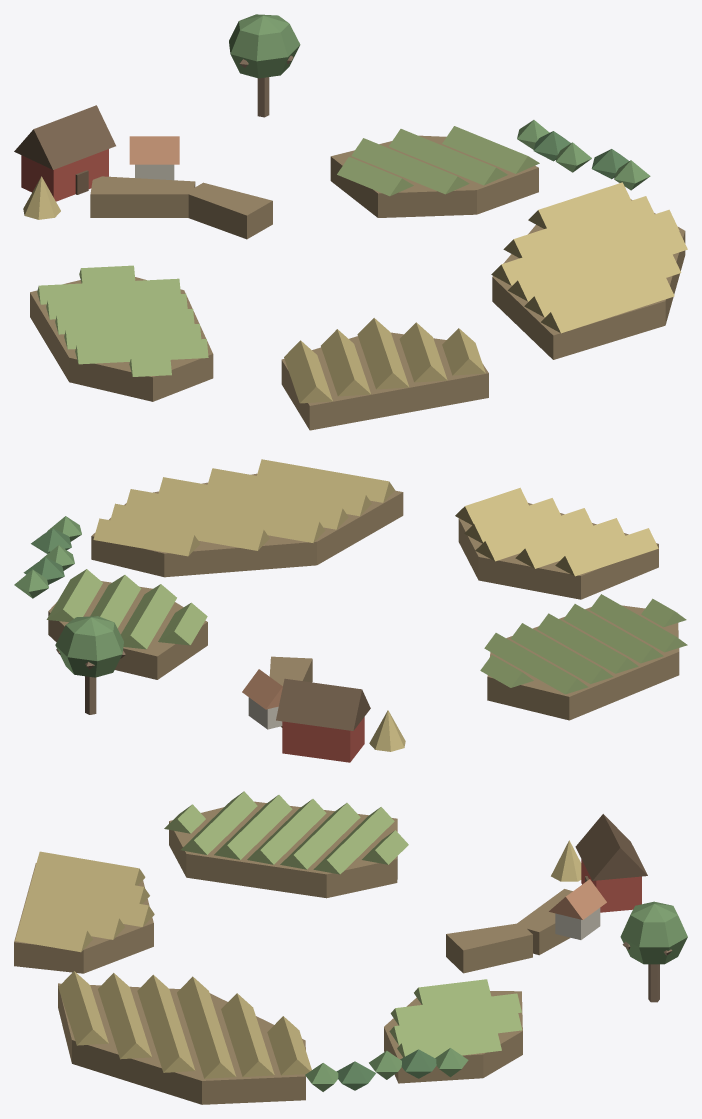
Rendered from farm.glb.
The picture shows the model from 3 angles, top to bottom: view 1: azimuth 30°, elevation 25°; view 2: azimuth 150°, elevation 25°; view 3: azimuth 270°, elevation 25°; orthographic projection. The views are drawn at different scales.
Parts seen in each view (by area): view 1: LOD0; view 2: LOD0; view 3: LOD0.
Boxes of the visible parts, x1,y1,x2,y2 form: LOD0: (14,14,687,430); LOD0: (14,459,687,762); LOD0: (14,791,687,1104).
Size of what is drawn, in the model's own units: 1.62 by 0.29 by 1.59.
